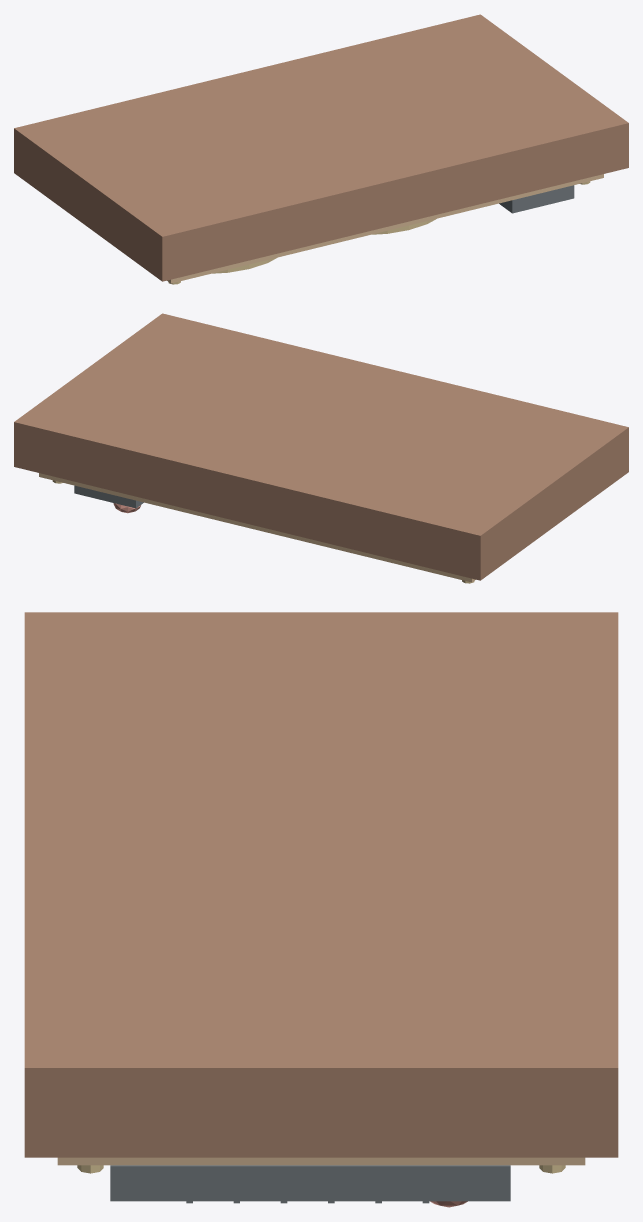
The model's file is 08_wall_weather_instruments.glb.
3 renders of one model, top to bottom at view 1: azimuth 30°, elevation 25°; view 2: azimuth 150°, elevation 25°; view 3: azimuth 270°, elevation 25°, orthographic. The views are drawn at different scales.
Parts seen in each view (by area): view 1: oak_mounting_board_0001, weather_station_face_0002, thermo_backing_0037; view 2: oak_mounting_board_0001, weather_station_face_0002, thermo_backing_0037; view 3: oak_mounting_board_0001, thermo_backing_0037, weather_station_face_0002.
Part boxes in pixels (x1,y1,x2,y2): oak_mounting_board_0001: [14, 14, 628, 281]; weather_station_face_0002: [167, 174, 603, 283]; thermo_backing_0037: [499, 185, 574, 213]; oak_mounting_board_0001: [14, 313, 628, 580]; weather_station_face_0002: [39, 473, 475, 582]; thermo_backing_0037: [74, 485, 143, 508]; oak_mounting_board_0001: [24, 612, 618, 1157]; thermo_backing_0037: [110, 1165, 510, 1201]; weather_station_face_0002: [57, 1157, 585, 1165].
Size of the model in its own units: 0.98 by 0.206 by 0.54.
